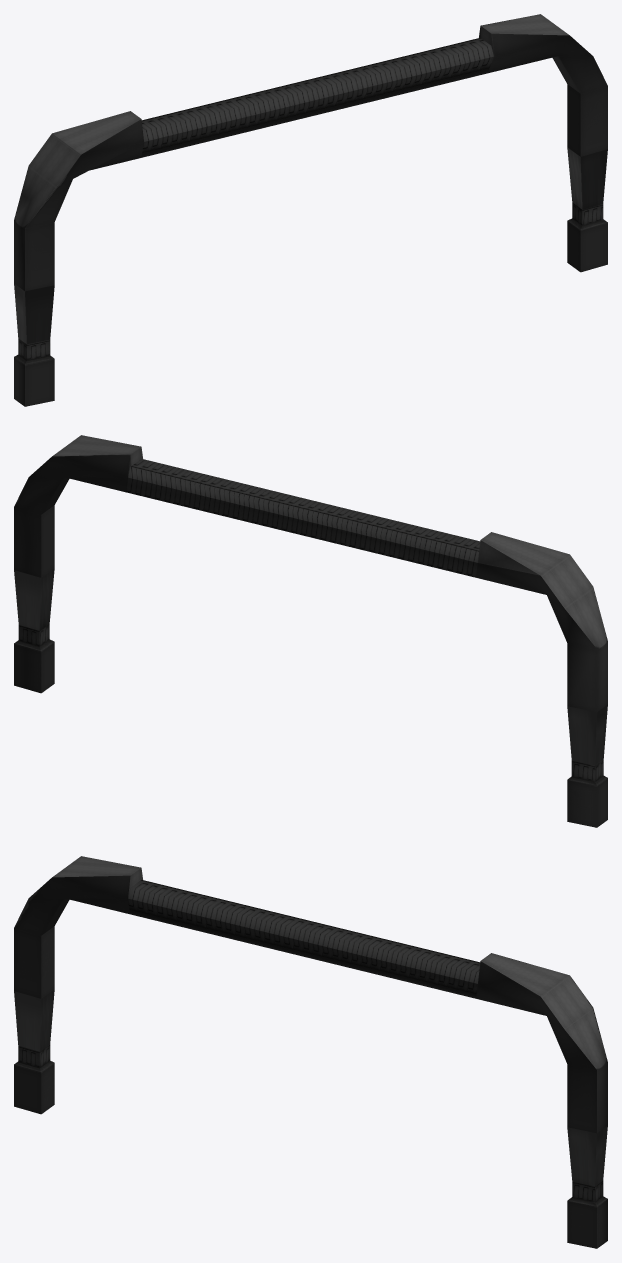
File: Fence.fbx
3 views of the same model, one above another, from view 1: azimuth 30°, elevation 25°; view 2: azimuth 150°, elevation 25°; view 3: azimuth 330°, elevation 25° (orthographic).
Visible parts, largest first — view 1: BridgeFence; view 2: BridgeFence; view 3: BridgeFence.
Part boxes in pixels (x1=…): BridgeFence: x1=14, y1=14, x2=607, y2=406; BridgeFence: x1=14, y1=435, x2=607, y2=827; BridgeFence: x1=14, y1=856, x2=607, y2=1248.
Size of the model in its own units: 2.01 by 0.8532 by 0.1739.
